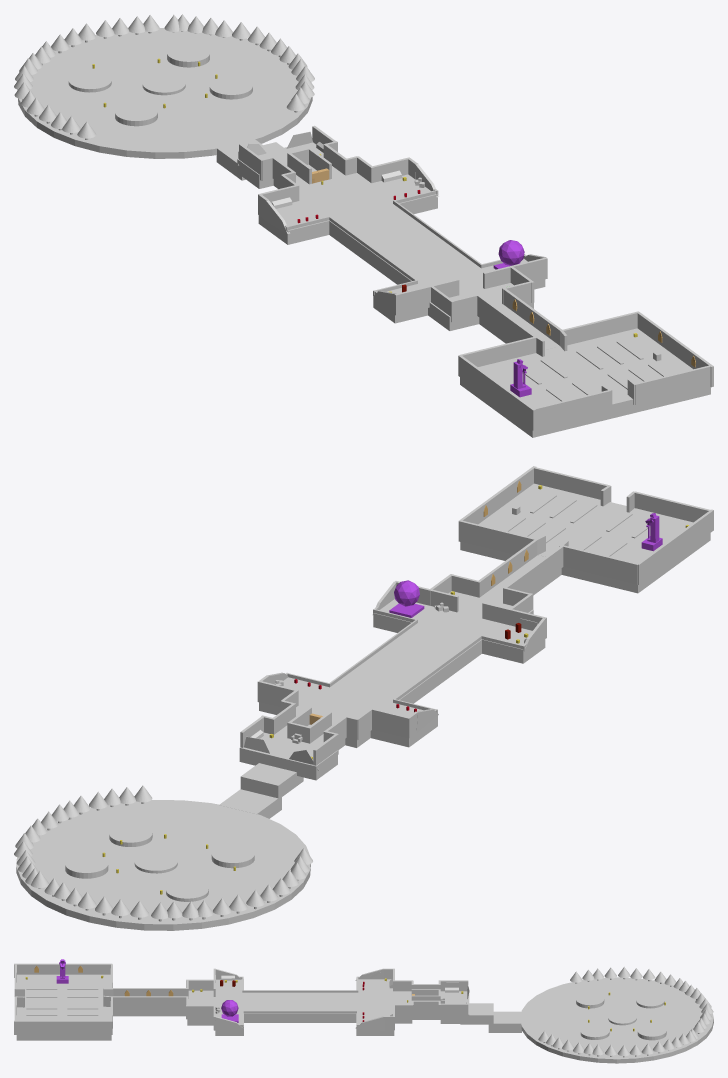
The model's file is BlockingLvl2area2&3.fbx.
3 renders of one model, top to bottom at view 1: azimuth 30°, elevation 25°; view 2: azimuth 150°, elevation 25°; view 3: azimuth 270°, elevation 25°, orthographic. The views are drawn at different scales.
Parts seen in each view (by area): view 1: Cylinder_lvl2_lvl2_lvl2, MediumFightRoom_lvl2_lvl2_lvl2, CorridorTyranids1_lvl2_lvl2_lvl2, LittleFightRoom2_lvl2_lvl2_lvl2, LittleRoom2.094_lvl2_lvl2_lvl2, LittleRoom2.093_lvl2_lvl2_lvl2, LittleRoom2.092_lvl2_lvl2_lvl2, LittleFightRoom1_lvl2_lvl2_lvl2, LittleRoom2.096_lvl2_lvl2_lvl2, LittleRoom2.095_lvl2_lvl2_lvl2, LittleRoom2.097_lvl2_lvl2_lvl2, LittleFightRoom1.001_lvl2_lvl2_lvl2 (+12 smaller); view 2: Cylinder_lvl2_lvl2_lvl2, MediumFightRoom_lvl2_lvl2_lvl2, CorridorTyranids1_lvl2_lvl2_lvl2, LittleFightRoom1_lvl2_lvl2_lvl2, LittleFightRoom2_lvl2_lvl2_lvl2, Gun Room 1.001_lvl2_lvl2_lvl2, LittleRoom2.094_lvl2_lvl2_lvl2, LittleRoom2.097_lvl2_lvl2_lvl2, Gun Room 1.002_lvl2_lvl2_lvl2, LittleRoom2.096_lvl2_lvl2_lvl2, LittleRoom2.093_lvl2_lvl2_lvl2, LittleRoom2.092_lvl2_lvl2_lvl2 (+11 smaller); view 3: Cylinder_lvl2_lvl2_lvl2, MediumFightRoom_lvl2_lvl2_lvl2, CorridorTyranids1_lvl2_lvl2_lvl2, LittleFightRoom2_lvl2_lvl2_lvl2, LittleRoom2.095_lvl2_lvl2_lvl2, LittleRoom2.098_lvl2_lvl2_lvl2, LittleRoom2.094_lvl2_lvl2_lvl2, LittleFightRoom1_lvl2_lvl2_lvl2, Gun Room 1.003_lvl2_lvl2_lvl2, LittleFightRoom1.001_lvl2_lvl2_lvl2, LittleRoom2.099_lvl2_lvl2_lvl2, Gun Room 1.002_lvl2_lvl2_lvl2 (+20 smaller).
Boxes of the visible parts, left/top/right/bottom form: Cylinder_lvl2_lvl2_lvl2: left=17, top=28, right=312, bottom=158; MediumFightRoom_lvl2_lvl2_lvl2: left=460, top=328, right=710, bottom=437; CorridorTyranids1_lvl2_lvl2_lvl2: left=329, top=205, right=483, bottom=284; LittleFightRoom2_lvl2_lvl2_lvl2: left=258, top=174, right=437, bottom=244; LittleRoom2.094_lvl2_lvl2_lvl2: left=458, top=355, right=535, bottom=430; LittleRoom2.093_lvl2_lvl2_lvl2: left=635, top=365, right=712, bottom=404; LittleRoom2.092_lvl2_lvl2_lvl2: left=532, top=390, right=610, bottom=429; LittleFightRoom1_lvl2_lvl2_lvl2: left=373, top=258, right=545, bottom=323; LittleRoom2.096_lvl2_lvl2_lvl2: left=561, top=311, right=638, bottom=345; LittleRoom2.095_lvl2_lvl2_lvl2: left=636, top=312, right=713, bottom=387; LittleRoom2.097_lvl2_lvl2_lvl2: left=459, top=336, right=537, bottom=366; LittleFightRoom1.001_lvl2_lvl2_lvl2: left=428, top=283, right=533, bottom=330; Cylinder_lvl2_lvl2_lvl2: left=16, top=800, right=310, bottom=930; MediumFightRoom_lvl2_lvl2_lvl2: left=460, top=483, right=710, bottom=593; CorridorTyranids1_lvl2_lvl2_lvl2: left=332, top=622, right=481, bottom=703; LittleFightRoom1_lvl2_lvl2_lvl2: left=373, top=599, right=545, bottom=663; LittleFightRoom2_lvl2_lvl2_lvl2: left=259, top=677, right=437, bottom=747; Gun Room 1.001_lvl2_lvl2_lvl2: left=239, top=732, right=337, bottom=780; LittleRoom2.094_lvl2_lvl2_lvl2: left=637, top=509, right=713, bottom=584; LittleRoom2.097_lvl2_lvl2_lvl2: left=561, top=545, right=637, bottom=584; Gun Room 1.002_lvl2_lvl2_lvl2: left=240, top=763, right=303, bottom=798; LittleRoom2.096_lvl2_lvl2_lvl2: left=458, top=520, right=536, bottom=554; LittleRoom2.093_lvl2_lvl2_lvl2: left=532, top=466, right=609, bottom=499; LittleRoom2.092_lvl2_lvl2_lvl2: left=634, top=491, right=711, bottom=522; Cylinder_lvl2_lvl2_lvl2: left=521, top=977, right=713, bottom=1063; MediumFightRoom_lvl2_lvl2_lvl2: left=16, top=974, right=111, bottom=1040; CorridorTyranids1_lvl2_lvl2_lvl2: left=241, top=992, right=356, bottom=1022; LittleFightRoom2_lvl2_lvl2_lvl2: left=356, top=979, right=394, bottom=1035; LittleRoom2.095_lvl2_lvl2_lvl2: left=14, top=1020, right=112, bottom=1034; LittleRoom2.098_lvl2_lvl2_lvl2: left=111, top=996, right=186, bottom=1010; LittleRoom2.094_lvl2_lvl2_lvl2: left=14, top=963, right=111, bottom=977; LittleFightRoom1_lvl2_lvl2_lvl2: left=215, top=979, right=243, bottom=1035; Gun Room 1.003_lvl2_lvl2_lvl2: left=488, top=1011, right=521, bottom=1032; LittleFightRoom1.001_lvl2_lvl2_lvl2: left=187, top=990, right=213, bottom=1025; LittleRoom2.099_lvl2_lvl2_lvl2: left=111, top=988, right=188, bottom=996; Gun Room 1.002_lvl2_lvl2_lvl2: left=460, top=1003, right=493, bottom=1024.
Bounding box in the file's own units: 13754 × 3608 × 48823.
